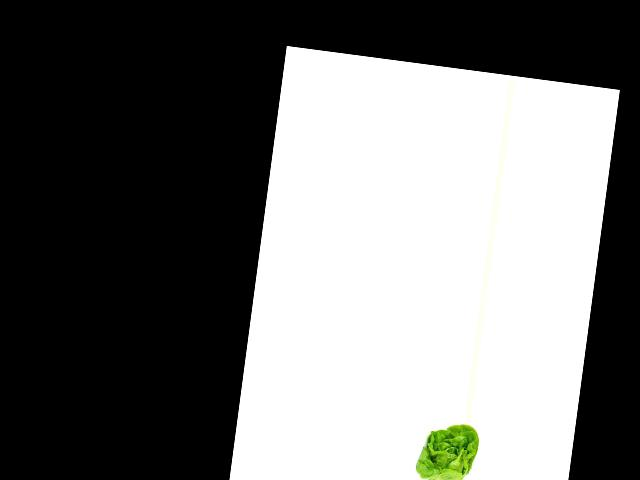lettuce: (407, 418, 482, 480)
